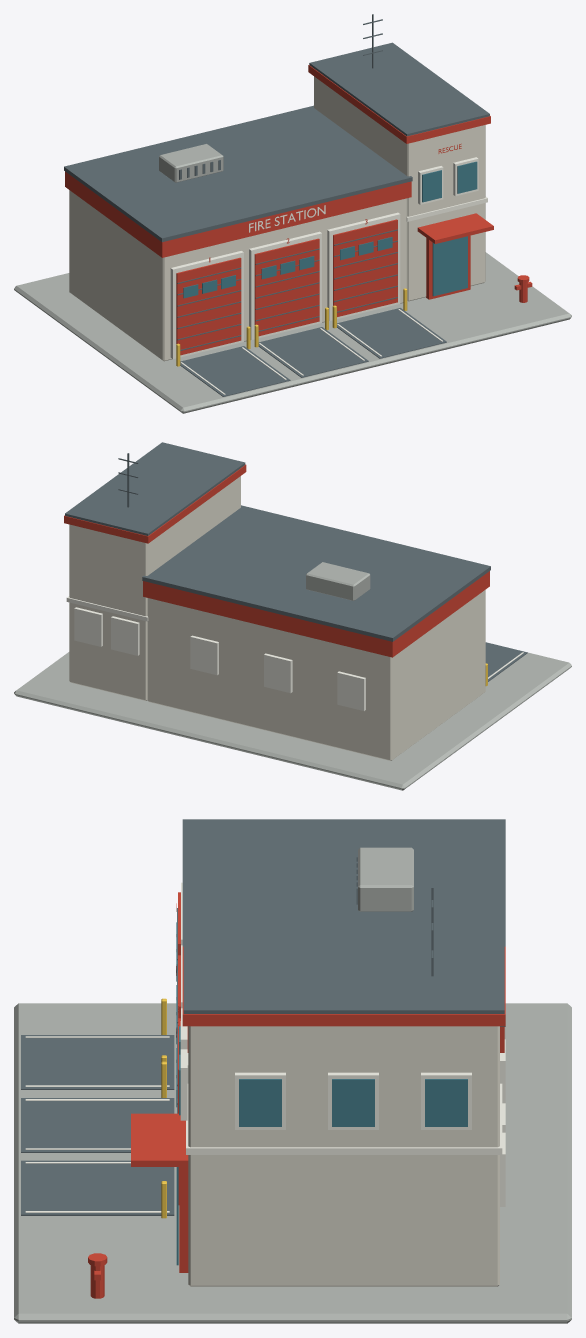
File: Fire_Station.fbx
3 renders of one model, top to bottom at view 1: azimuth 30°, elevation 25°; view 2: azimuth 150°, elevation 25°; view 3: azimuth 270°, elevation 25°, orthographic. The views are drawn at different scales.
Parts seen in each view (by area): view 1: Main Roof, Station Foundation, Appliance Bay Building, Station Office Wing, Office Roof, Red Bay Fascia, Red Sectional Garage Door.001, Red Sectional Garage Door, Red Sectional Garage Door.002, Driveway Lane.001, Driveway Lane, Driveway Lane.002 (+10 smaller); view 2: Appliance Bay Building, Main Roof, Station Foundation, Station Office Wing, Office Roof, Red Bay Fascia, Roof HVAC, Office Red Roof Trim, Window Frame.004, Window Frame.005, Window Frame.006, Window Frame.002 (+3 smaller); view 3: Station Office Wing, Station Foundation, Main Roof, Office Roof, Driveway Lane, Driveway Lane.002, Driveway Lane.001, Office Red Roof Trim, Roof HVAC, Office Entrance Canopy, Office Floor Band, Office Side Glass (+6 smaller).
Boxes of the visible parts, box(x1,y1,x2,y2) form: Main Roof: box(64, 105, 412, 242); Station Foundation: box(14, 252, 571, 413); Appliance Bay Building: box(69, 190, 407, 361); Station Office Wing: box(314, 76, 485, 301); Office Roof: box(309, 42, 489, 136); Red Bay Fascia: box(65, 171, 411, 257); Red Sectional Garage Door.001: box(254, 238, 319, 336); Red Sectional Garage Door: box(176, 257, 241, 355); Red Sectional Garage Door.002: box(333, 219, 397, 316); Driveway Lane.001: box(258, 327, 368, 377); Driveway Lane: box(180, 346, 290, 396); Driveway Lane.002: box(337, 308, 446, 358); Appliance Bay Building: box(147, 590, 485, 760); Main Roof: box(142, 505, 490, 641); Station Foundation: box(14, 652, 571, 790); Station Office Wing: box(69, 476, 240, 700); Office Roof: box(65, 442, 245, 535); Red Bay Fascia: box(143, 571, 489, 657); Roof HVAC: box(306, 562, 370, 600); Office Red Roof Trim: box(64, 464, 246, 543); Window Frame.004: box(190, 635, 218, 675); Window Frame.005: box(111, 616, 139, 655); Window Frame.006: box(74, 607, 102, 646); Window Frame.002: box(337, 671, 365, 710); Station Office Wing: box(188, 1026, 499, 1286); Station Foundation: box(14, 1003, 571, 1323); Main Roof: box(182, 819, 505, 1026); Office Roof: box(183, 943, 504, 1013); Driveway Lane: box(21, 1035, 174, 1089); Driveway Lane.002: box(21, 1160, 174, 1215); Driveway Lane.001: box(21, 1098, 174, 1152); Office Red Roof Trim: box(182, 946, 505, 1026); Roof HVAC: box(358, 847, 413, 911); Office Entrance Canopy: box(131, 1113, 188, 1166); Office Floor Band: box(186, 1083, 502, 1154); Office Side Glass: box(239, 1079, 281, 1126).
Bounding box in the file's own units: 1600 × 900 × 1200.
